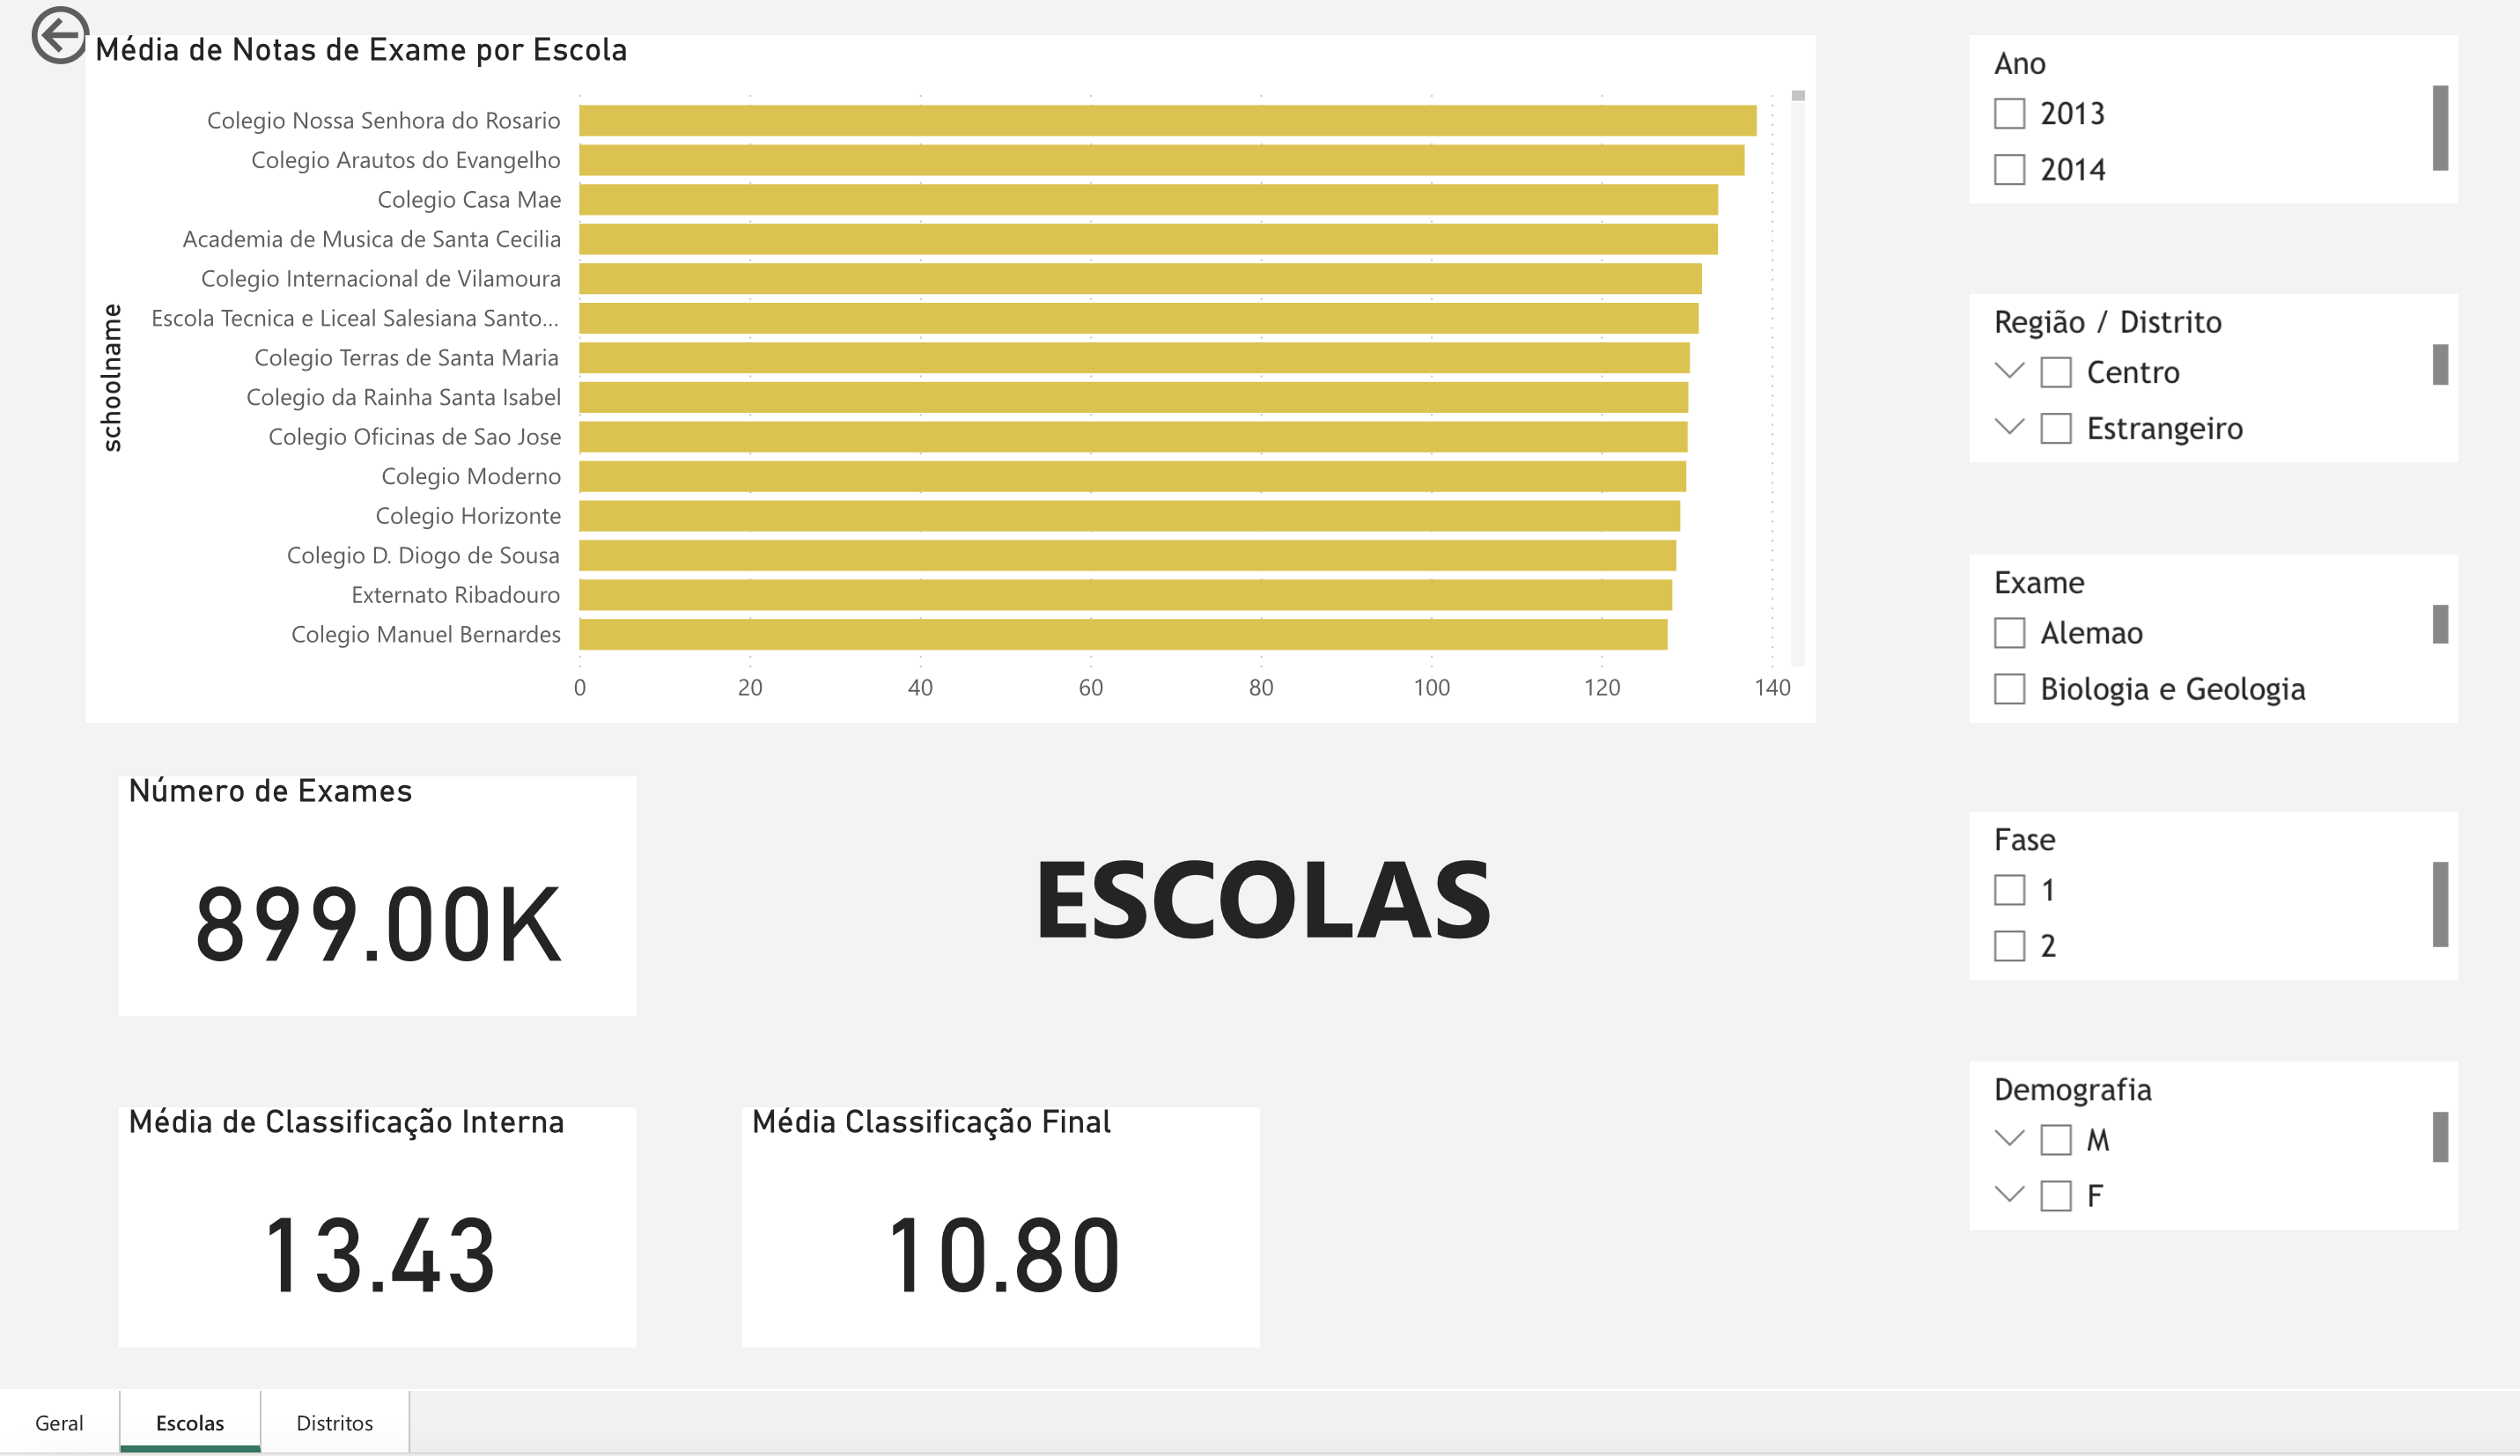

The dashboard page shown, as its layout file describes it:
{"tool":"powerbi","page":{"name":"Escolas","canvas":[1280,720],"ordinal":1},"visuals":[{"type":"actionButton","box":[0,0,100,40],"z":0},{"type":"barChart","title":"Média de Notas de Exame por Escola","fields":{"Category":["dim_school.schoolname"],"Y":["grades.grade"]},"box":[32.4,19.7,894.5,355.7],"z":1000},{"type":"group","id":"g1","title":"Grupo 1","box":[1006.9,19.7,252.6,86.9],"z":2000},{"type":"slicer","fields":{"Values":["dim_district.region","dim_district.districtname"]},"box":[1006.9,154.1,252.6,86.9],"z":3000},{"type":"slicer","fields":{"Values":["dim_exam.examname"]},"box":[1006.9,288.5,252.6,86.9],"z":4000},{"type":"slicer","fields":{"Values":["dim_phase.phase"]},"box":[1006.9,421.8,252.6,86.9],"z":5000},{"type":"card","title":"Número de Exames","fields":{"Values":["grades.grade"]},"box":[49.8,403.2,267.7,124],"z":6000},{"type":"card","title":"Média de Classificação Interna","fields":{"Values":["grades.cif"]},"box":[49.8,574.7,267.7,124],"z":7000},{"type":"slicer","fields":{"Values":["dim_year.year"]},"box":[1006.9,19.7,252.6,86.9],"z":8000,"group":"g1"},{"type":"card","title":"Média Classificação Final","fields":{"Values":["grades.cfd"]},"box":[372,574.7,267.7,124],"z":8000},{"type":"textbox","box":[479.7,421.8,323.3,104.3],"z":9000},{"type":"slicer","fields":{"Values":["dim_studentdemographic.sex","dim_studentdemographic.agecategory","dim_studentdemographic.age"]},"box":[1006.9,550.4,252.6,86.9],"z":10000},{"type":"slicer","fields":{"Values":["dim_school.pubprivacro"]},"box":[709.1,550.4,252.6,86.9],"z":10001}]}

Visuals, with their boxes on the page's 1280x720 design canvas (x1, y1, x2, y2). These are canvas units, not pixel positions in the 2520x1456 screenshot, which may show the page scaled, cropped or inside an application window:
actionButton: Rect(0, 0, 100, 40)
"Média de Notas de Exame por Escola" barChart: Rect(32, 20, 927, 375)
"Grupo 1" group: Rect(1007, 20, 1260, 107)
slicer - dim_district.region x dim_district.districtname: Rect(1007, 154, 1260, 241)
slicer - dim_exam.examname: Rect(1007, 288, 1260, 375)
slicer - dim_phase.phase: Rect(1007, 422, 1260, 509)
"Número de Exames" card: Rect(50, 403, 318, 527)
"Média de Classificação Interna" card: Rect(50, 575, 318, 699)
slicer - dim_year.year: Rect(1007, 20, 1260, 107)
"Média Classificação Final" card: Rect(372, 575, 640, 699)
textbox: Rect(480, 422, 803, 526)
slicer - dim_studentdemographic.sex x dim_studentdemographic.agecategory: Rect(1007, 550, 1260, 637)
slicer - dim_school.pubprivacro: Rect(709, 550, 962, 637)
